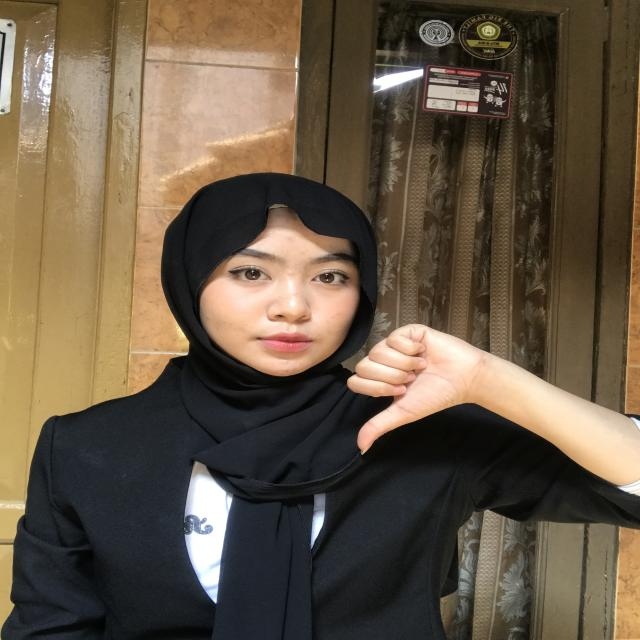sedih: (334, 296, 499, 494)
